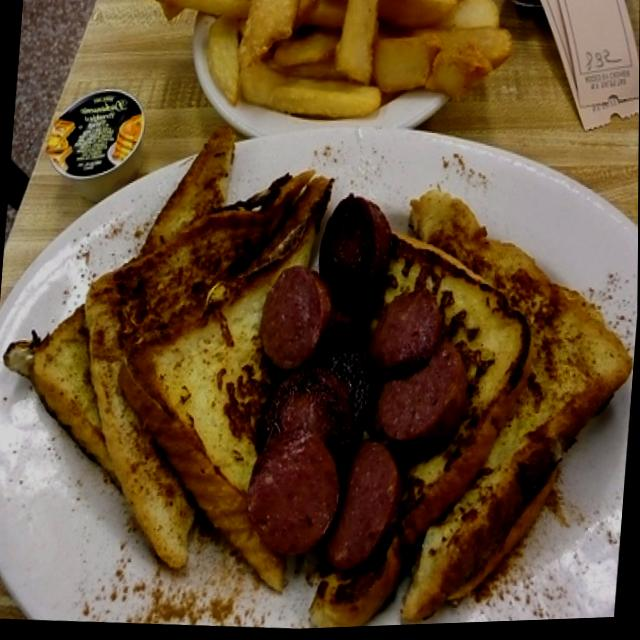面包点心: (0, 95, 639, 640)
